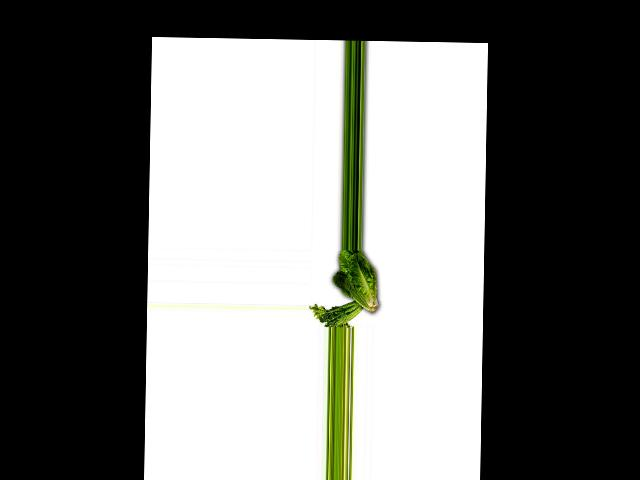lettuce: (327, 248, 377, 316)
